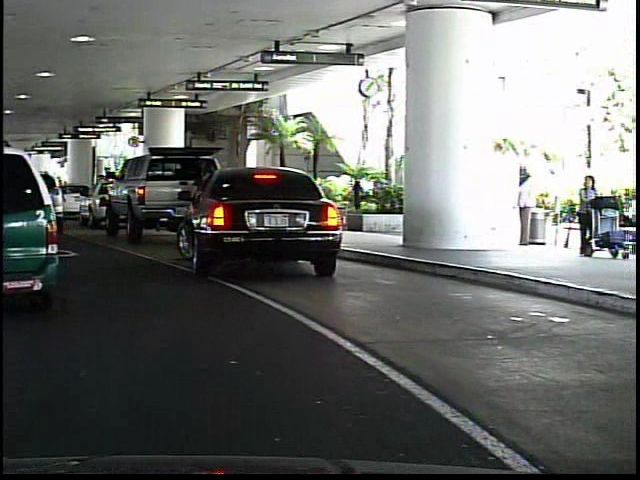person: (571, 168, 601, 262)
